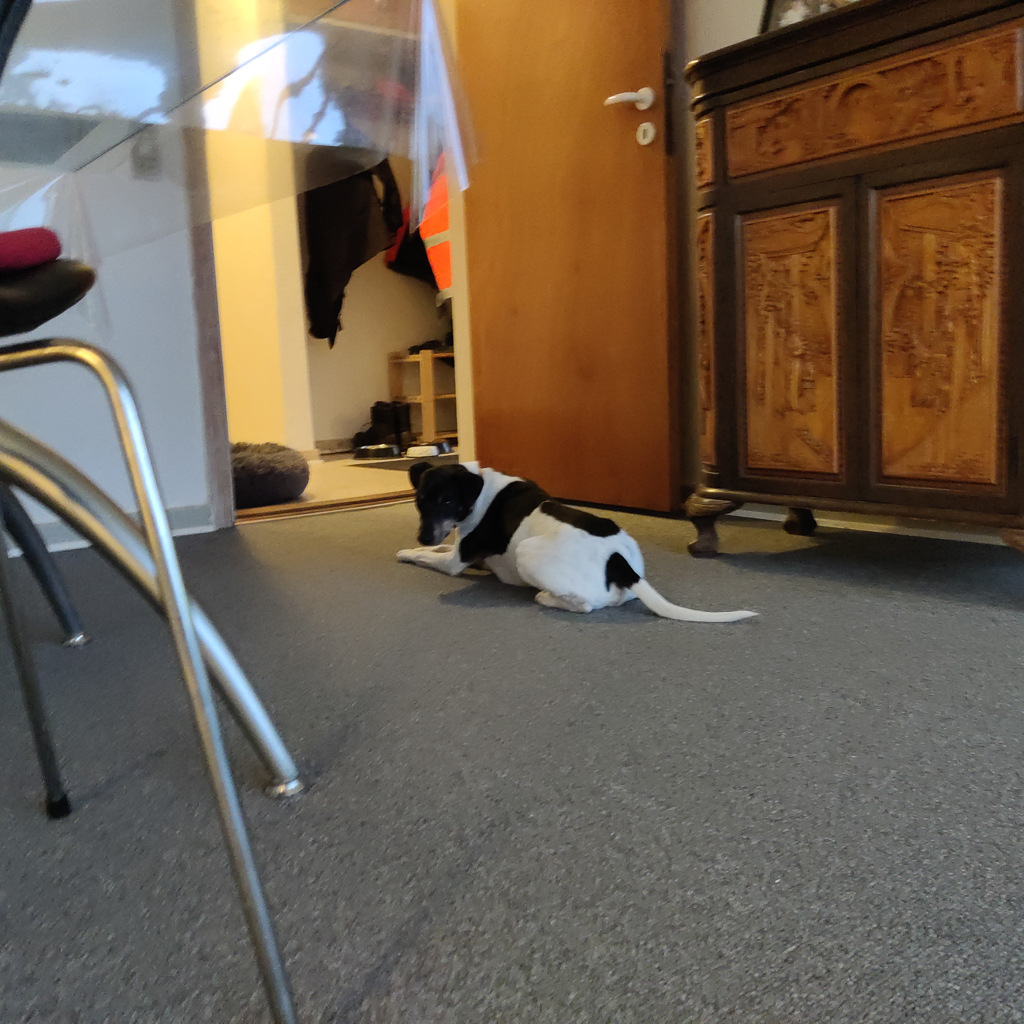Dog: (383, 442, 775, 639)
